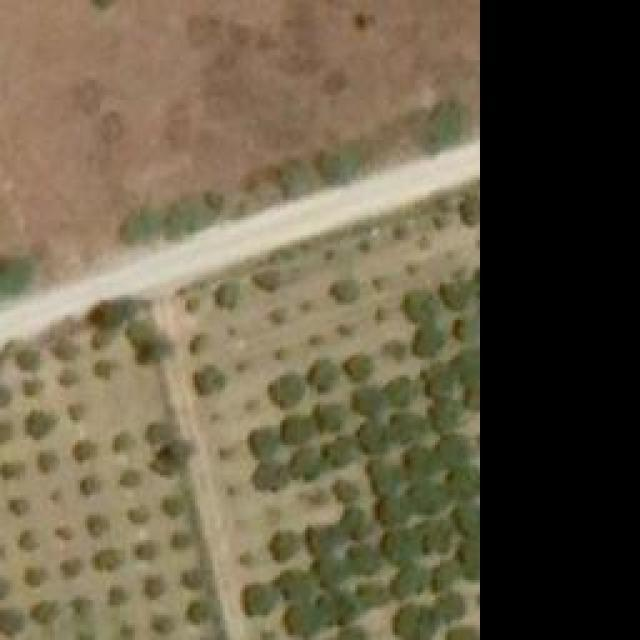Tree: (420, 100, 463, 155), (320, 148, 359, 184), (395, 605, 435, 640), (87, 296, 133, 326), (240, 583, 275, 618), (425, 395, 460, 430), (265, 373, 305, 403), (208, 278, 243, 311), (408, 288, 441, 323), (320, 590, 355, 623), (415, 520, 450, 553), (413, 322, 443, 360), (368, 457, 398, 495), (0, 257, 30, 295), (283, 603, 316, 636), (438, 430, 468, 465), (423, 365, 456, 395), (450, 278, 480, 311), (457, 533, 479, 577), (145, 415, 178, 443), (405, 450, 438, 478), (388, 415, 421, 443), (450, 465, 478, 498), (453, 500, 479, 535), (193, 368, 223, 398), (458, 193, 483, 228), (150, 450, 178, 480), (245, 427, 275, 455), (255, 465, 283, 495), (287, 450, 315, 480), (323, 437, 353, 465), (280, 570, 308, 600), (422, 563, 450, 593), (388, 377, 418, 405), (25, 410, 58, 435), (90, 545, 123, 570), (312, 362, 340, 390), (312, 402, 340, 430), (312, 557, 340, 585), (157, 490, 185, 518), (125, 320, 155, 345), (385, 533, 410, 563), (178, 565, 208, 590), (47, 335, 75, 360), (285, 415, 313, 440), (353, 388, 388, 408), (345, 507, 370, 535), (333, 475, 358, 503), (348, 545, 373, 573), (402, 488, 430, 513), (137, 573, 165, 598), (68, 440, 98, 463), (273, 530, 296, 560), (330, 278, 358, 301), (348, 352, 371, 380), (310, 528, 335, 553), (148, 610, 173, 635), (435, 595, 460, 620), (88, 358, 118, 378), (462, 353, 480, 386), (15, 348, 40, 371), (255, 270, 278, 295), (380, 500, 405, 523), (390, 570, 413, 595), (20, 565, 45, 588), (80, 513, 105, 536), (33, 600, 58, 623), (358, 583, 383, 606), (458, 320, 481, 345), (0, 610, 22, 635), (63, 400, 86, 423), (120, 218, 143, 241), (170, 530, 193, 553), (392, 218, 412, 243), (113, 430, 133, 453), (118, 468, 141, 488), (75, 475, 98, 495), (363, 425, 383, 448), (5, 498, 28, 518), (125, 505, 148, 525), (138, 540, 158, 563), (108, 585, 131, 605), (58, 557, 83, 575), (445, 625, 475, 640), (320, 245, 341, 266), (383, 342, 406, 360), (187, 600, 205, 623), (188, 333, 208, 353), (372, 308, 393, 327), (58, 370, 78, 388), (35, 452, 55, 470), (0, 460, 20, 478), (115, 620, 133, 640), (356, 235, 374, 255), (20, 377, 38, 395), (268, 308, 288, 323), (273, 345, 289, 363), (17, 533, 35, 548), (55, 525, 73, 540), (373, 275, 388, 290)
